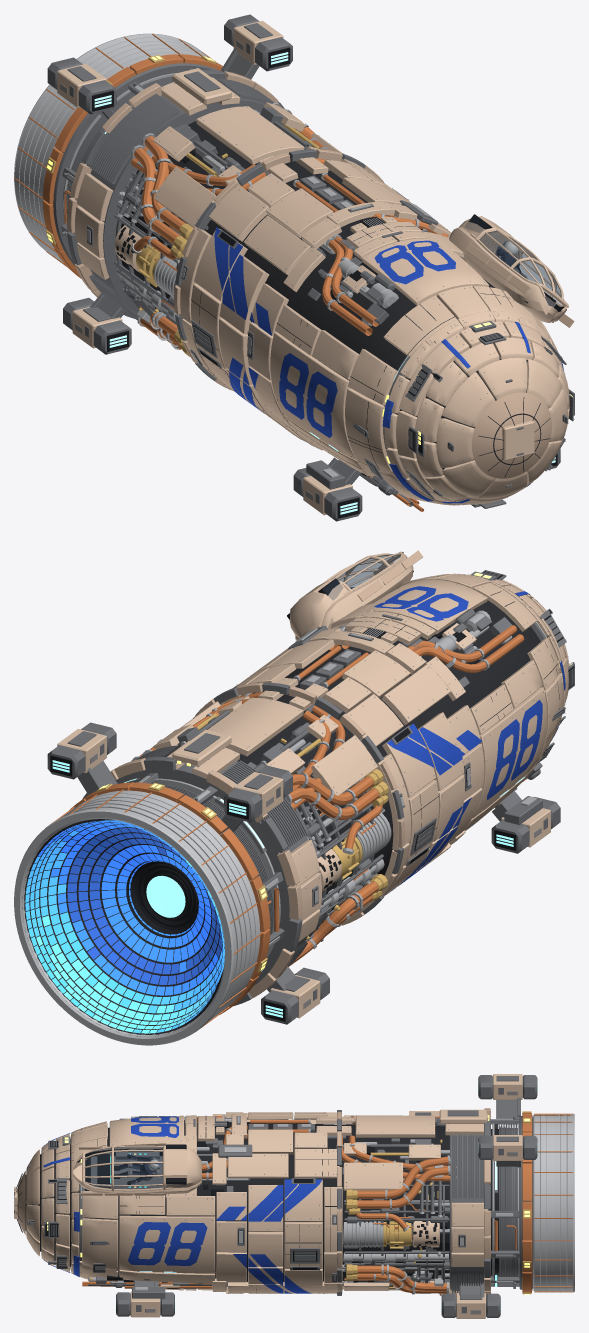
Rendered from monoreactor88_vitrine.glb.
3 views of the same model, one above another, from view 1: azimuth 30°, elevation 25°; view 2: azimuth 150°, elevation 25°; view 3: azimuth 270°, elevation 25° (orthographic). The views are drawn at different scales.
Parts seen in each view (by area): view 1: M_88_CREME, M_KV_GUNMETAL, M_88_CUIVRE, M_TK_GRAPHITE, M_88_CREME2, M_88_BLEU, M_88_TUYERE, M_88_ACIER, M_KV_STRUCT_BLACK, M_88_LAITON, M_88_VERRE, M_88_RIVET (+1 smaller); view 2: M_88_CREME, M_KV_GUNMETAL, M_TK_GRAPHITE, M_88_TUYERE, M_88_CUIVRE, M_88_TUILE_B, M_88_TUILE_A, M_88_TUILE_C, M_88_BLEU, M_88_ACIER, M_KV_STRUCT_BLACK, M_88_CREME2 (+6 smaller); view 3: M_88_CREME, M_KV_GUNMETAL, M_TK_GRAPHITE, M_88_CUIVRE, M_88_TUYERE, M_88_BLEU, M_88_ACIER, M_KV_STRUCT_BLACK, M_88_VERRE, M_88_CREME2, M_88_LAITON, M_88_RIVET (+1 smaller).
Part boxes in pixels (bbox=[...]): M_88_CREME: bbox=[57, 20, 569, 515]; M_KV_GUNMETAL: bbox=[47, 14, 574, 521]; M_88_CUIVRE: bbox=[14, 33, 448, 511]; M_TK_GRAPHITE: bbox=[120, 121, 553, 477]; M_88_CREME2: bbox=[66, 71, 574, 478]; M_88_BLEU: bbox=[214, 227, 564, 503]; M_88_TUYERE: bbox=[14, 33, 208, 262]; M_88_ACIER: bbox=[62, 73, 449, 477]; M_KV_STRUCT_BLACK: bbox=[87, 47, 564, 518]; M_88_LAITON: bbox=[45, 55, 356, 356]; M_88_VERRE: bbox=[465, 215, 562, 305]; M_88_RIVET: bbox=[60, 40, 574, 505]; M_88_CREME: bbox=[57, 551, 569, 1018]; M_KV_GUNMETAL: bbox=[47, 570, 574, 1024]; M_TK_GRAPHITE: bbox=[22, 576, 560, 1036]; M_88_TUYERE: bbox=[14, 790, 260, 1045]; M_88_CUIVRE: bbox=[46, 625, 527, 1027]; M_88_TUILE_B: bbox=[37, 820, 224, 995]; M_88_TUILE_A: bbox=[67, 828, 223, 984]; M_88_TUILE_C: bbox=[25, 831, 224, 1033]; M_88_BLEU: bbox=[374, 586, 565, 893]; M_88_ACIER: bbox=[131, 610, 536, 958]; M_KV_STRUCT_BLACK: bbox=[50, 562, 574, 1021]; M_88_CREME2: bbox=[110, 550, 422, 997]; M_88_CREME: bbox=[14, 1074, 522, 1318]; M_KV_GUNMETAL: bbox=[14, 1075, 536, 1317]; M_TK_GRAPHITE: bbox=[15, 1116, 498, 1293]; M_88_CUIVRE: bbox=[82, 1112, 573, 1293]; M_88_TUYERE: bbox=[533, 1113, 574, 1292]; M_88_BLEU: bbox=[43, 1116, 322, 1293]; M_88_ACIER: bbox=[88, 1115, 519, 1294]; M_KV_STRUCT_BLACK: bbox=[29, 1078, 537, 1314]; M_88_VERRE: bbox=[85, 1144, 185, 1189]; M_88_CREME2: bbox=[17, 1108, 490, 1294]; M_88_LAITON: bbox=[90, 1111, 531, 1294]; M_88_RIVET: bbox=[28, 1091, 517, 1314].
Size of the model in its own units: 4.74 by 5.1 by 14.04.
